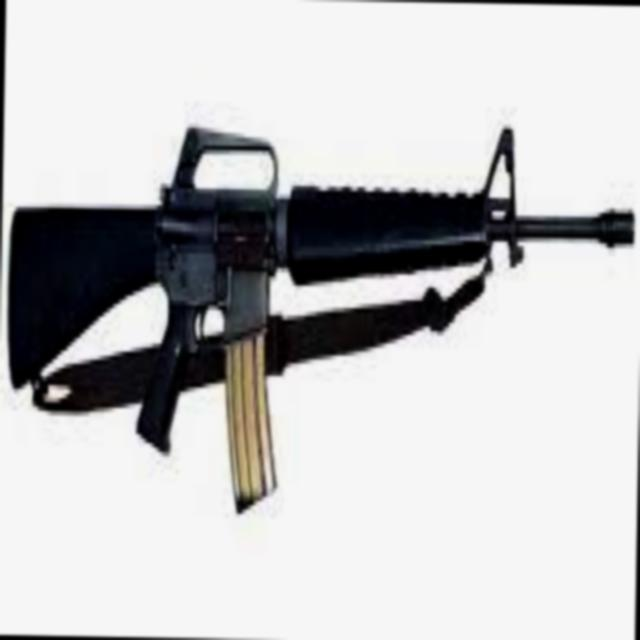m16: (7, 28, 638, 546)
